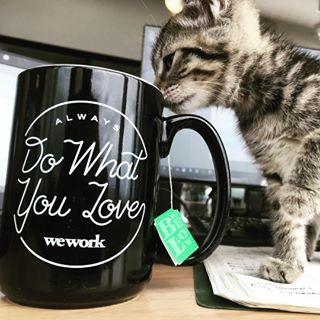wework: (41, 232, 107, 250)
